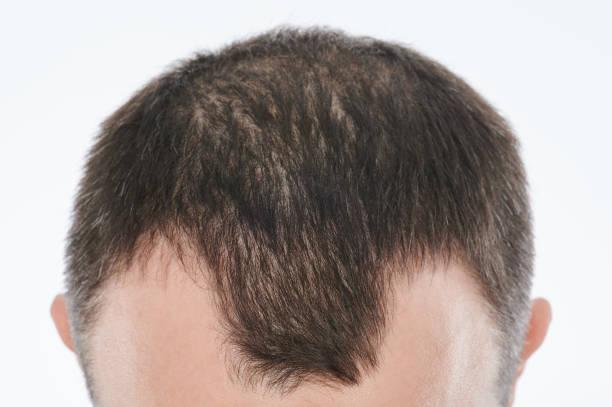low hair density: (222, 206, 328, 331), (221, 55, 405, 104)
